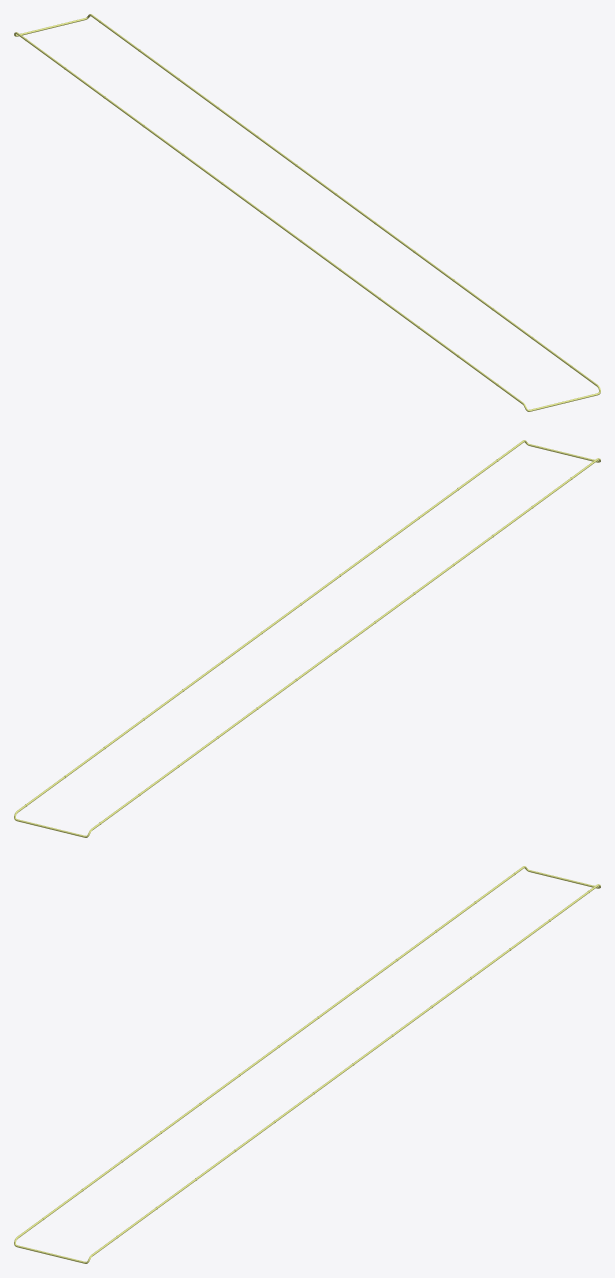
Rendered from ceilCables.fbx.
3 views of the same model, one above another, from view 1: azimuth 30°, elevation 25°; view 2: azimuth 150°, elevation 25°; view 3: azimuth 330°, elevation 25° (orthographic).
Parts seen in each view (by area): view 1: ceilCables; view 2: ceilCables; view 3: ceilCables.
Part boxes in pixels (<box>): ceilCables: <box>14,14,600,411</box>; ceilCables: <box>14,440,600,837</box>; ceilCables: <box>14,866,600,1263</box>.
Bounding box in the file's own units: 253 × 22.73 × 2940.
